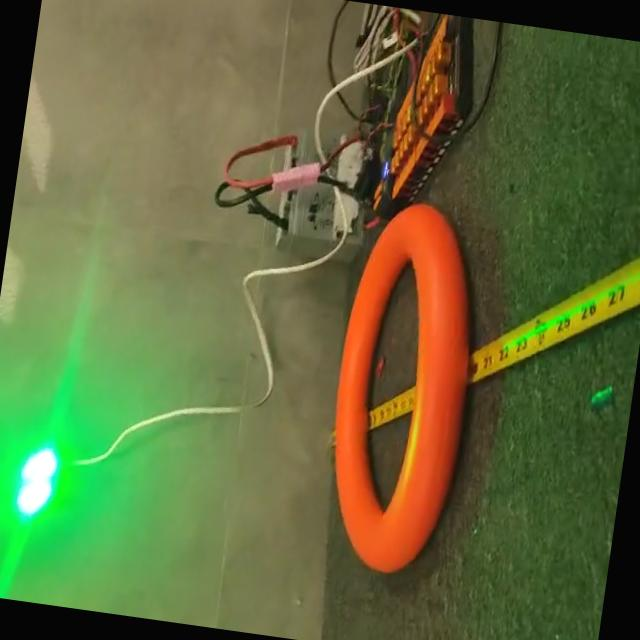note: (310, 194, 492, 586)
